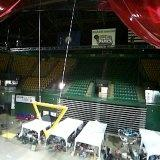Yellow_Triangle_Gshape: (32, 100, 68, 138)
